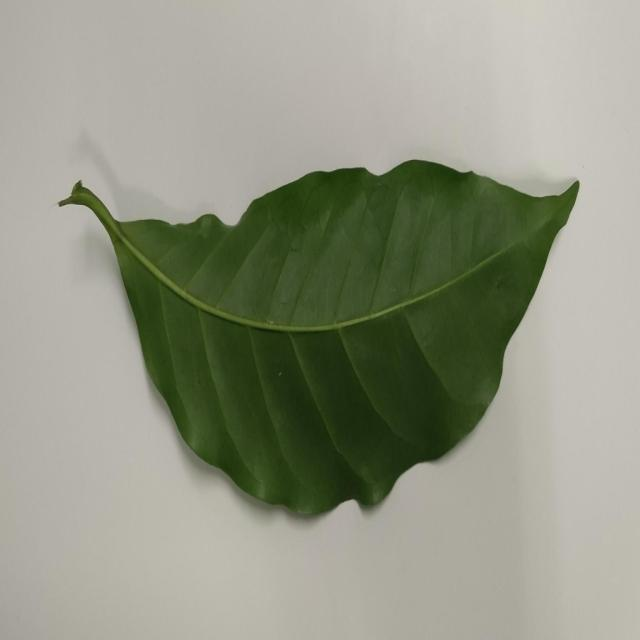Sanas: (58, 159, 580, 523)
